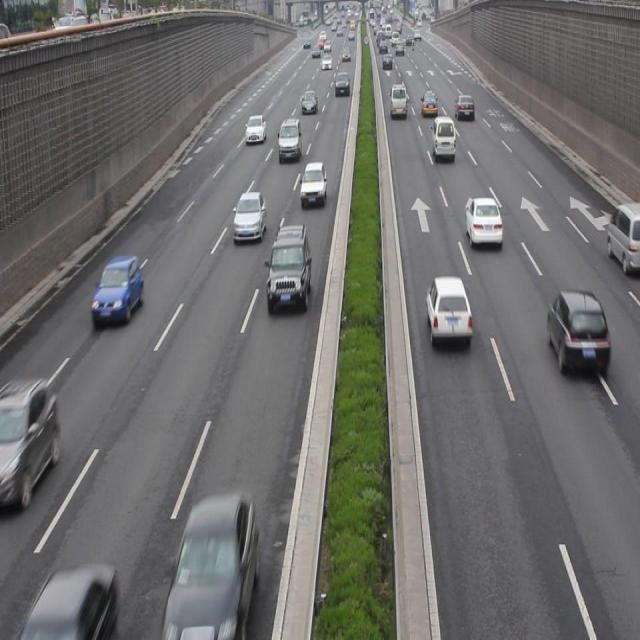car: (169, 493, 256, 640), (1, 377, 58, 506), (546, 288, 609, 375), (266, 224, 310, 312), (92, 253, 143, 324), (425, 274, 472, 343), (464, 196, 502, 246), (233, 191, 265, 242), (300, 162, 326, 207), (245, 114, 267, 144)
truck: (606, 203, 640, 271), (277, 116, 301, 161), (431, 116, 455, 158)
